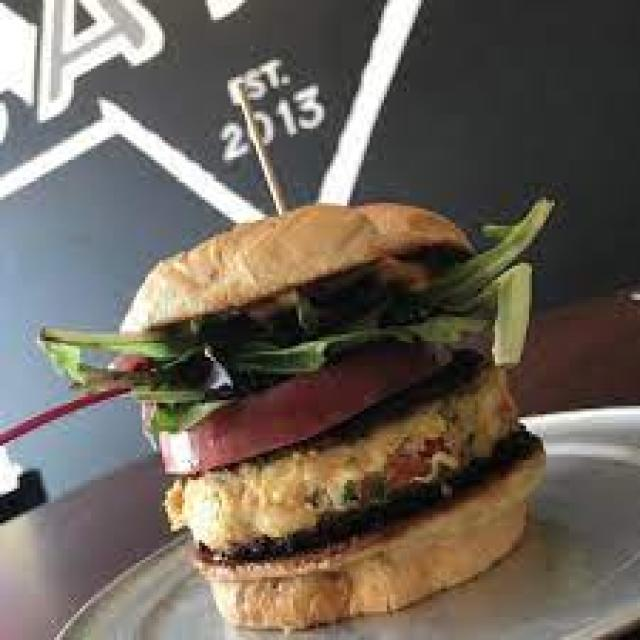Burger: (142, 265, 570, 623)
